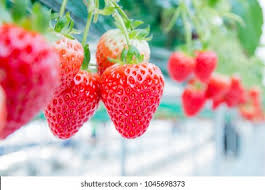ripe: (1, 24, 63, 140), (92, 56, 166, 143), (37, 67, 110, 146), (97, 27, 155, 89), (40, 33, 89, 98), (204, 73, 231, 113), (164, 47, 195, 81), (178, 83, 207, 119), (189, 49, 218, 84)
